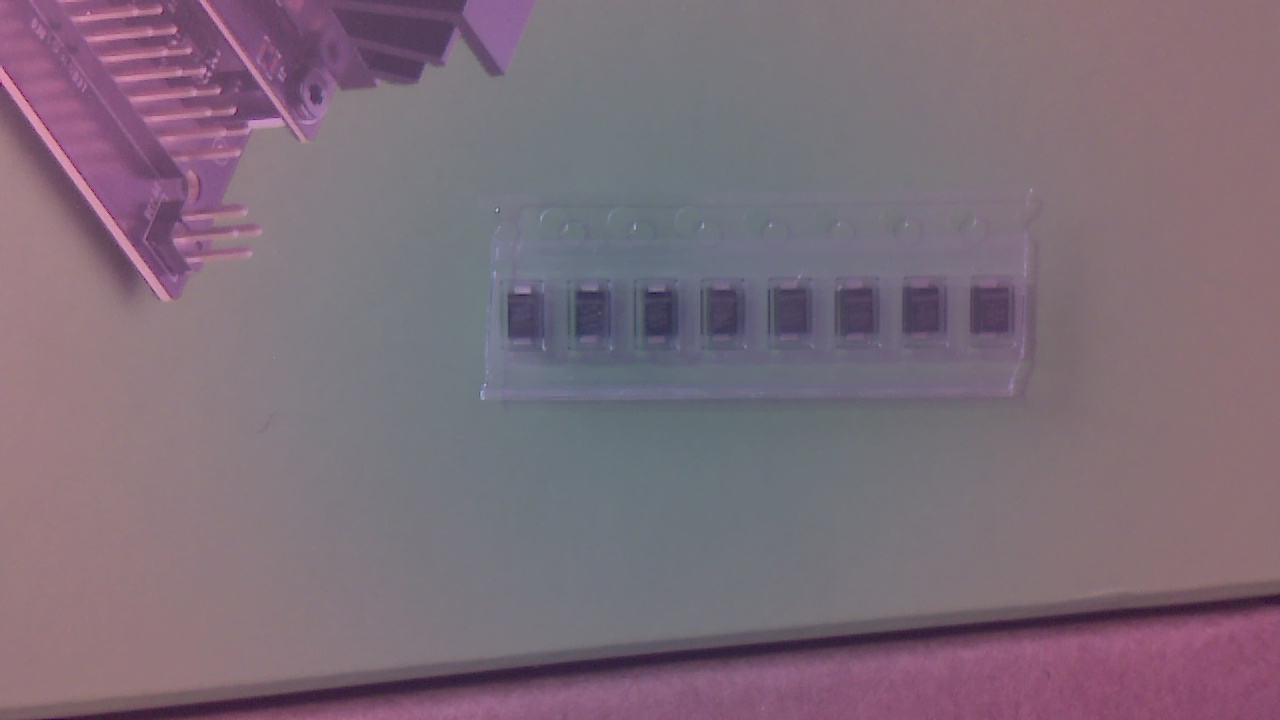Diode: (704, 284, 751, 349), (973, 282, 1018, 349), (575, 284, 617, 352), (774, 280, 815, 349), (509, 289, 550, 353), (910, 280, 949, 347), (644, 288, 684, 353), (841, 284, 881, 349)
